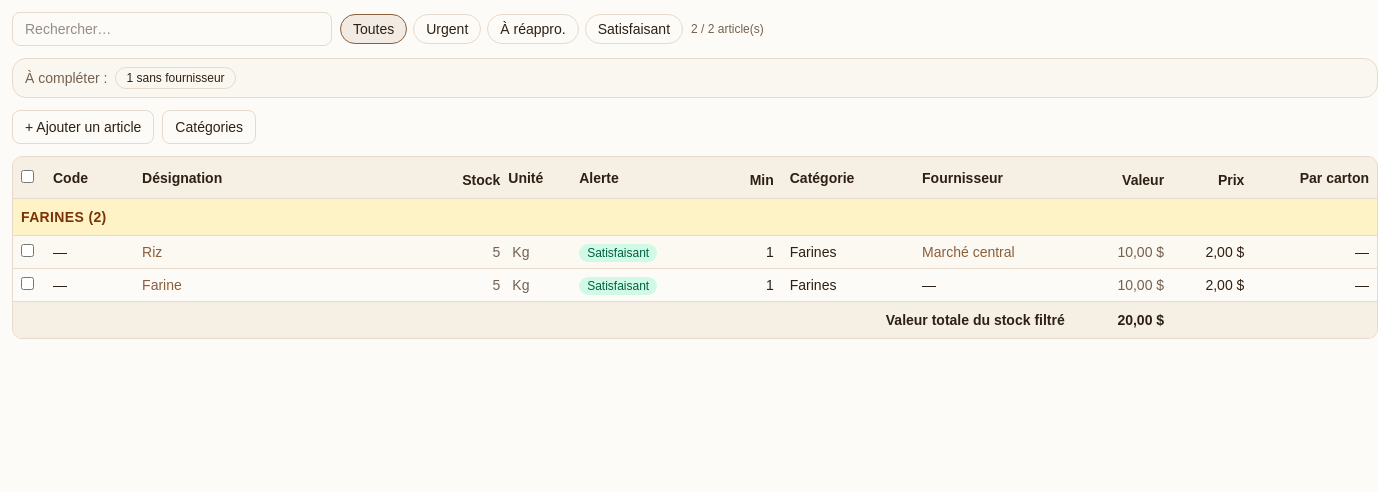
Test: Inventaire — fournisseur choisi en tapant (action groupée) › une seule liste d'options : ouverte depuis l'action groupée, tous les fournisseurs
Click the checkbox named "Sélectionner Riz" at {"x": 28, "y": 250}, box [21,244,34,257]
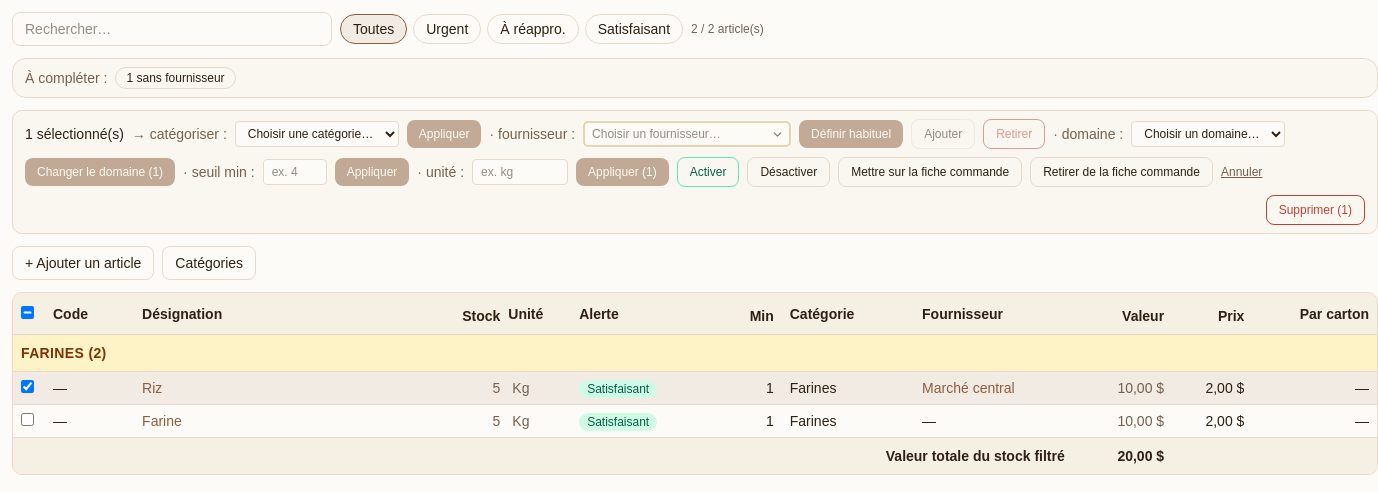
Click the dropdown with placeholder "Choisir un fournisseur…" at {"x": 687, "y": 134}, box [583,121,791,147]
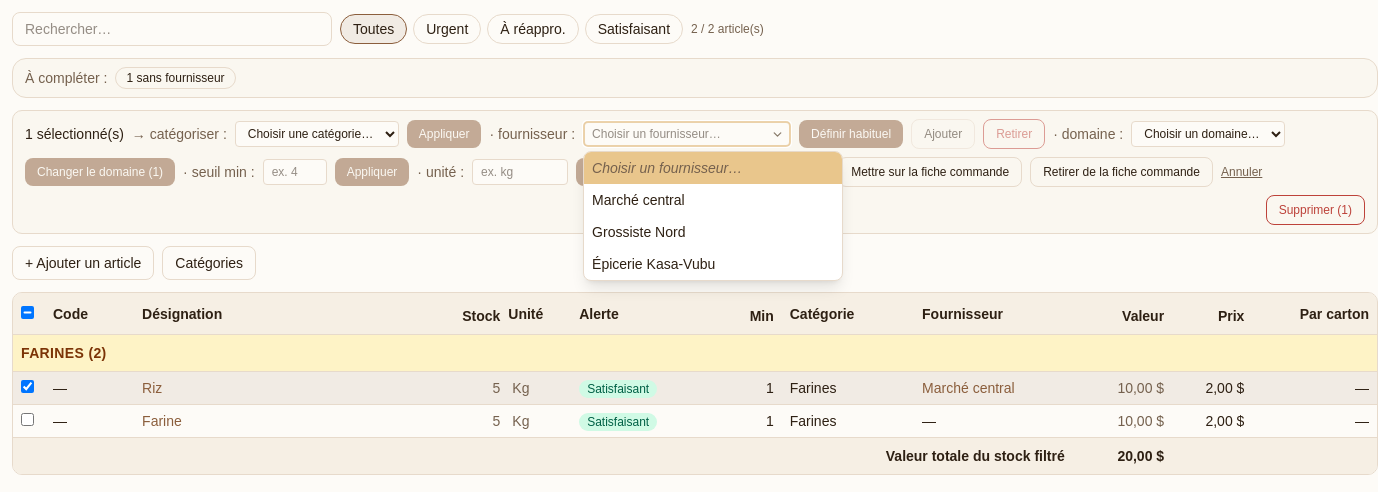
Expected: the number of lists is 1, [583,151,843,281]
